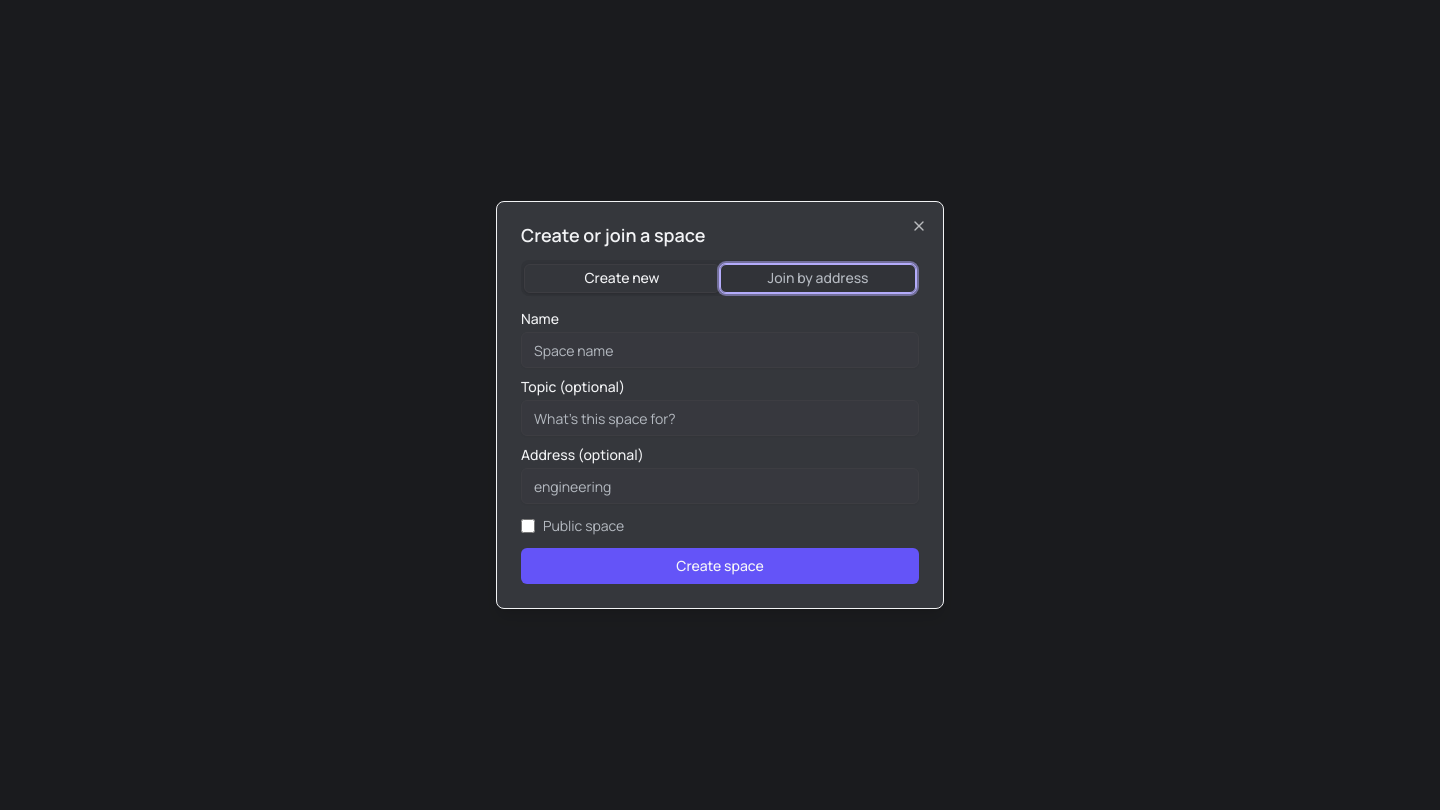
CreateJoinSpaceDialog › shows an error instead of navigating when the joined address is a regular room, after exhausting retries
Click the tab "Join by address" at (818, 278), box 720,264 -> 916,292
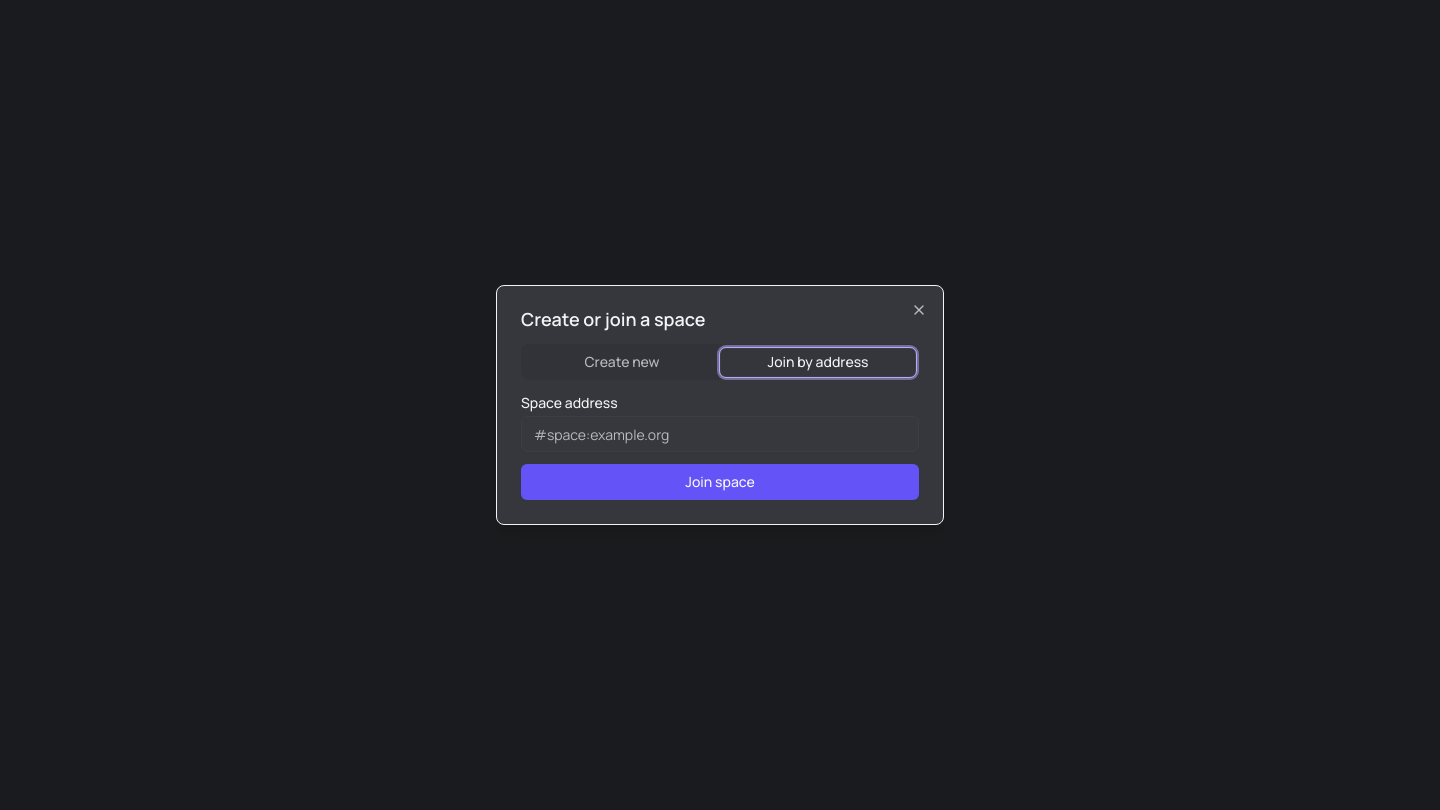
Type "#general:example.org" into the field labelled "Space address" at (720, 434), box 521,416 -> 919,452
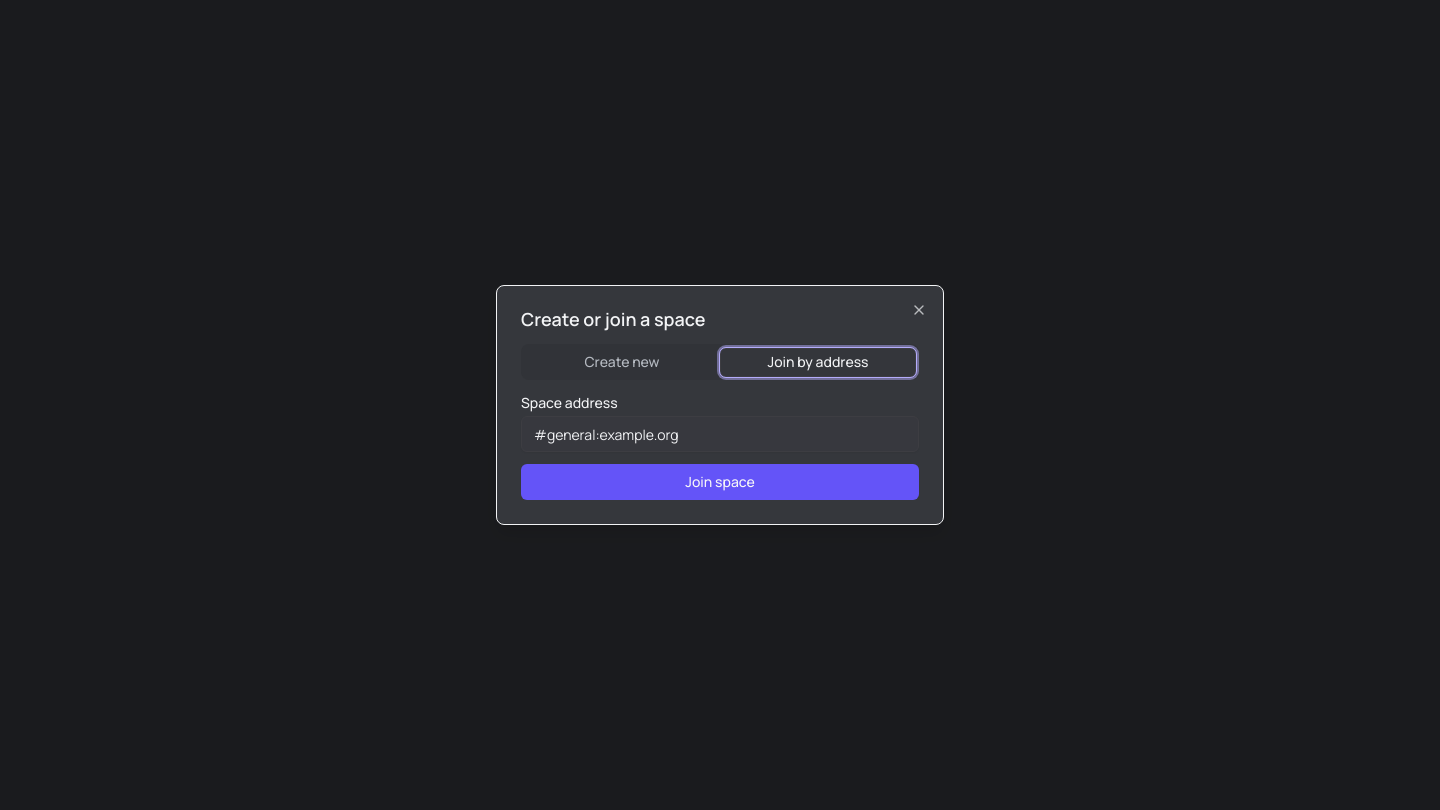
Click the button "Join space" at (720, 482), box 521,464 -> 919,500
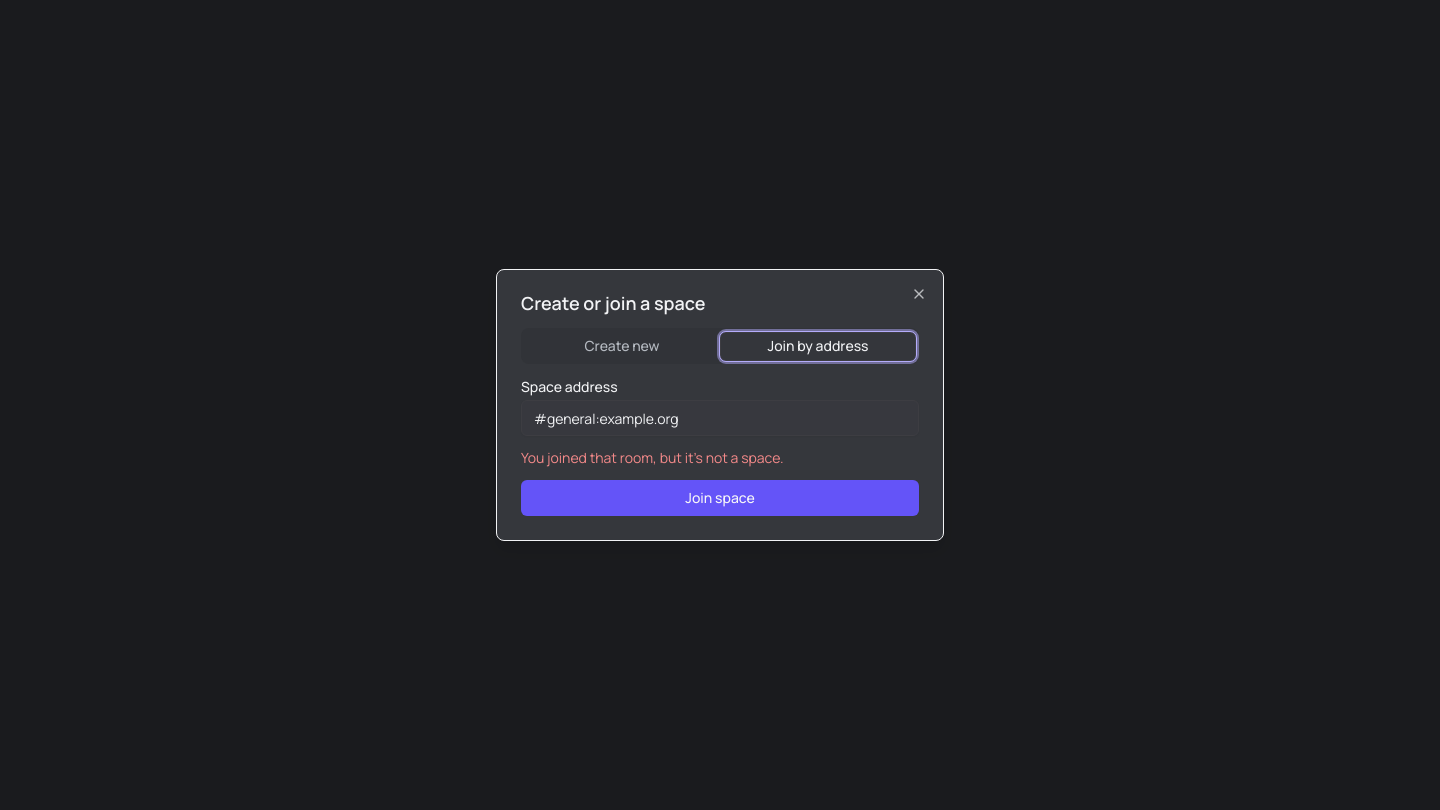
Now the text "You joined that room, but it's not a space." is shown, box 521,448 -> 784,467
